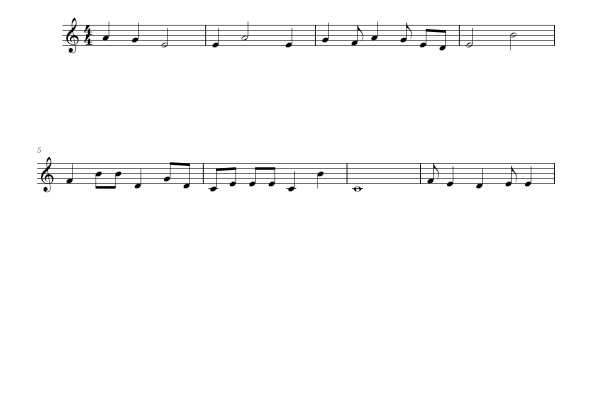Treble Clef: (63, 14, 83, 56), (36, 155, 56, 196)
